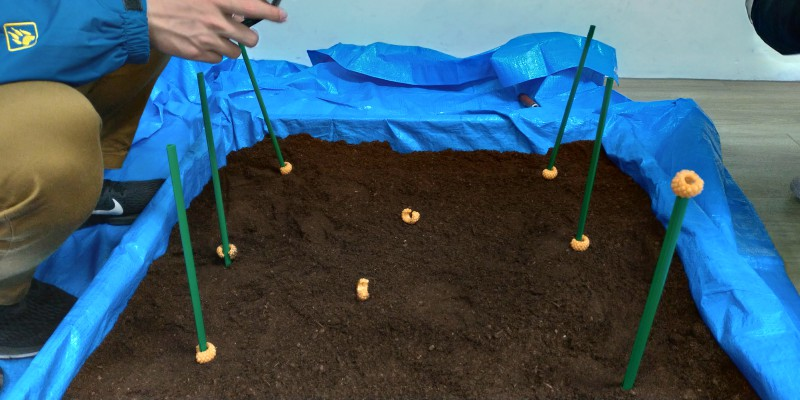eggs: (668, 167, 707, 200), (191, 338, 219, 366), (353, 271, 372, 305), (214, 239, 239, 262), (568, 230, 592, 253), (398, 205, 422, 226), (539, 161, 560, 183), (275, 158, 294, 176)
